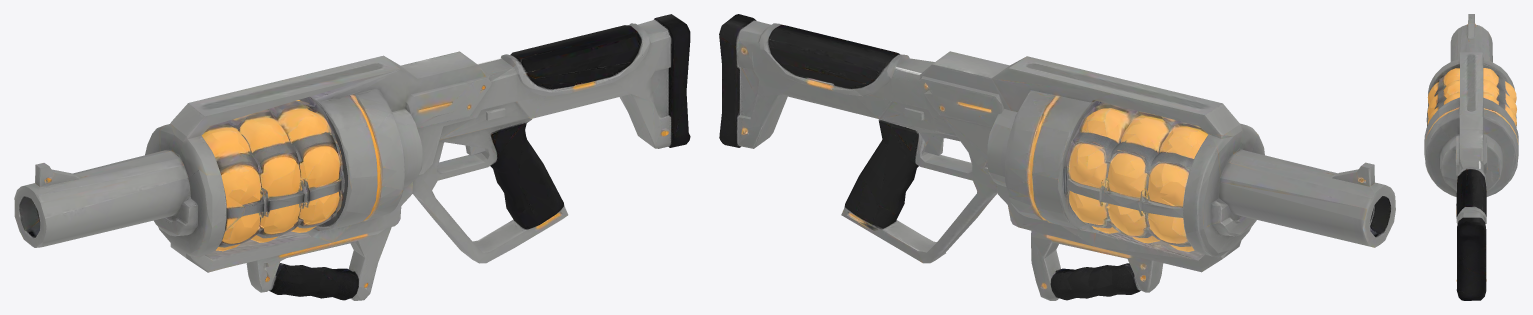
File: grenade_launcher.glb
3 renders of one model, left to right at view 1: azimuth 30°, elevation 25°; view 2: azimuth 150°, elevation 25°; view 3: azimuth 270°, elevation 25°, orthographic. The views are drawn at different scales.
Visible parts, largest first — view 1: Mesh_0; view 2: Mesh_0; view 3: Mesh_0.
Part boxes in pixels (left/top/right/bottom): Mesh_0: left=14, top=14, right=690, bottom=300; Mesh_0: left=719, top=14, right=1395, bottom=300; Mesh_0: left=1424, top=14, right=1518, bottom=300.
Size of the model in its own units: 1.9 by 0.6385 by 0.3675.
Materials: 1 (1 with a texture image).
